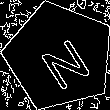N_NW: (28, 24, 91, 88)
